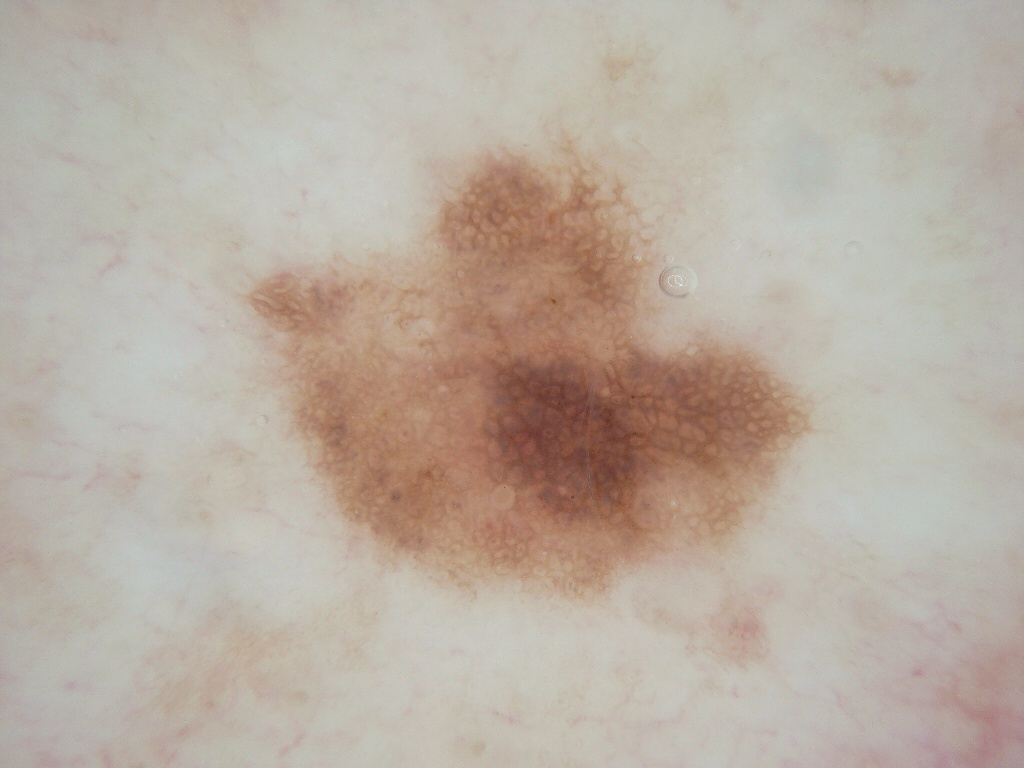Detected Lesion: (235, 146, 830, 622)
